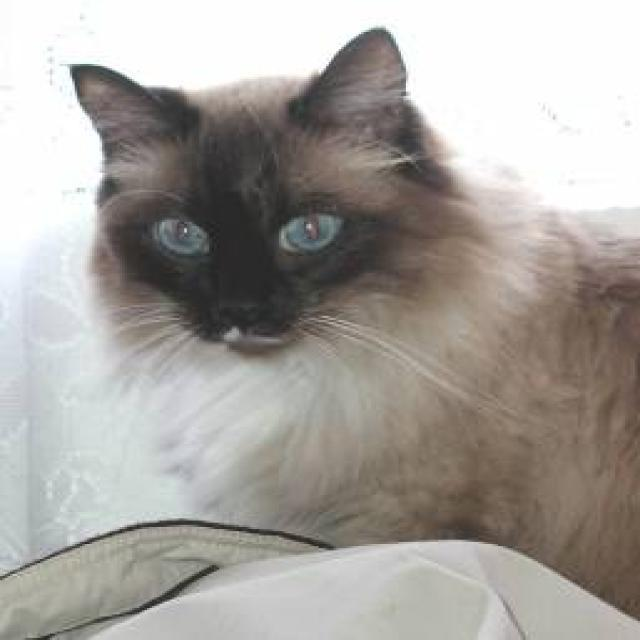Siamese: (58, 23, 433, 358)
